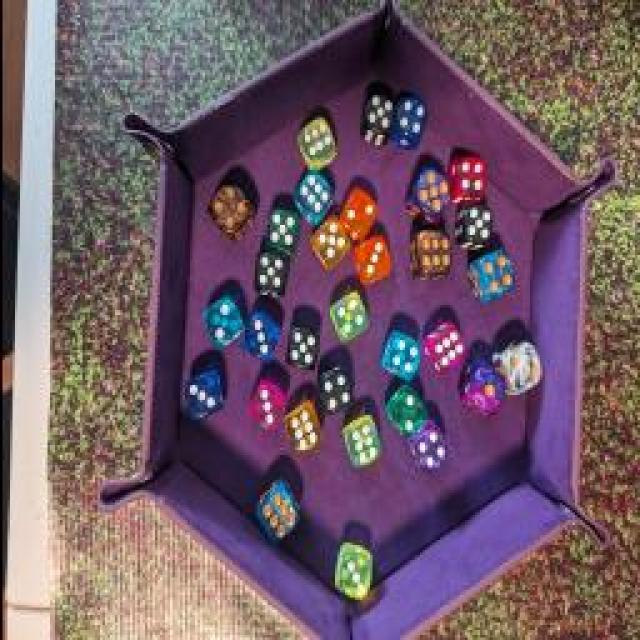dice_2: (490, 338, 548, 400), (454, 356, 504, 422), (335, 185, 383, 243), (380, 385, 428, 440), (201, 292, 244, 348)
dice_3: (325, 540, 377, 605), (178, 363, 224, 425), (238, 305, 284, 365), (354, 235, 394, 290), (248, 380, 284, 438)
dice_4: (206, 174, 256, 244), (468, 250, 518, 308), (381, 326, 421, 382), (329, 292, 369, 346), (406, 422, 446, 476), (390, 91, 425, 151), (315, 364, 355, 414), (452, 148, 488, 202)
dice_5: (408, 165, 452, 225), (306, 216, 352, 272), (356, 87, 396, 145), (455, 198, 495, 254), (248, 249, 292, 299), (280, 321, 318, 371), (269, 205, 301, 253)
dice_6: (250, 474, 300, 536), (406, 226, 452, 286), (278, 399, 324, 459), (422, 320, 462, 380), (294, 118, 338, 172), (340, 416, 380, 472), (292, 174, 332, 226)
